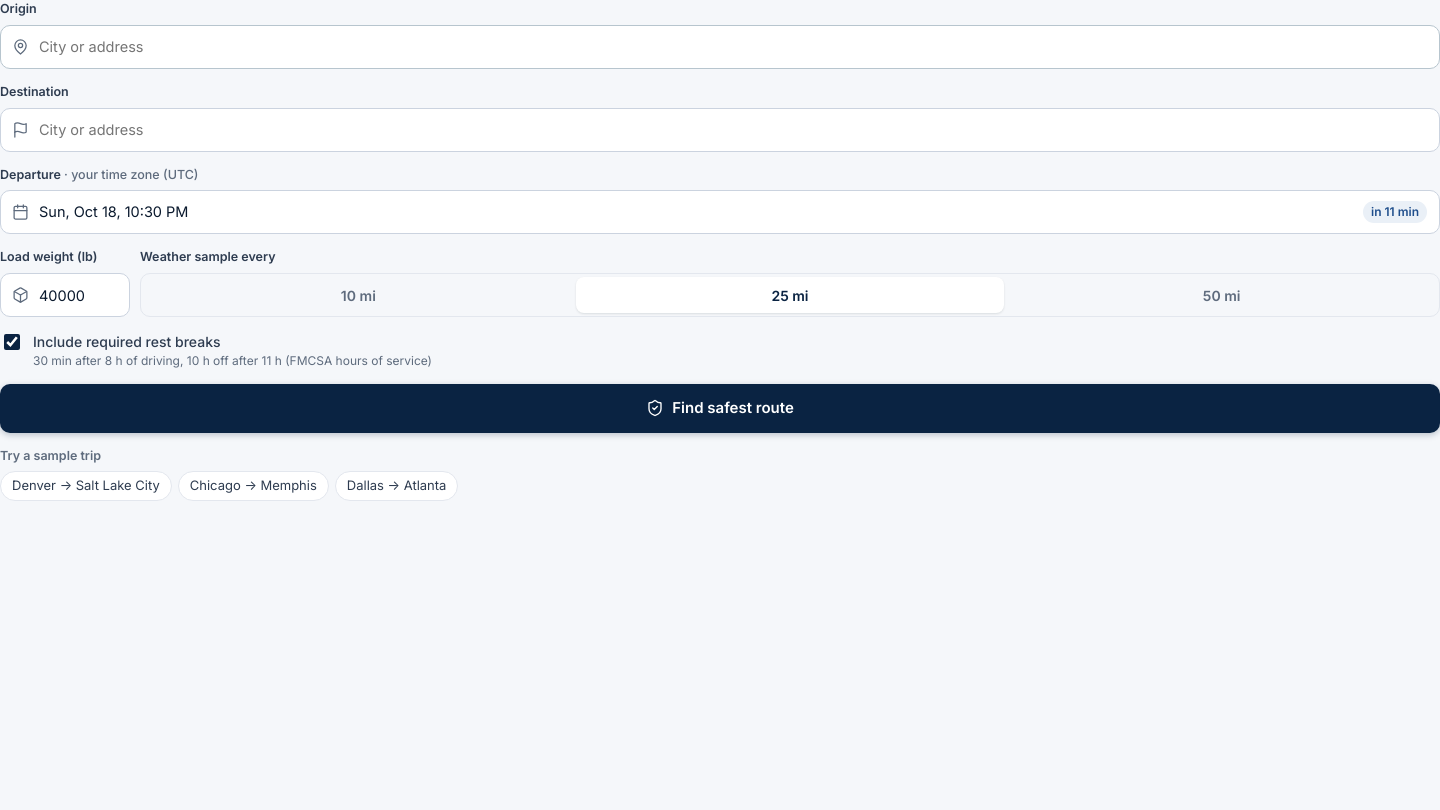
Test: TripForm › pages through future months but only offers days the forecast covers
Click the button named "Departure" at (114, 212), box [0,190,1439,234]
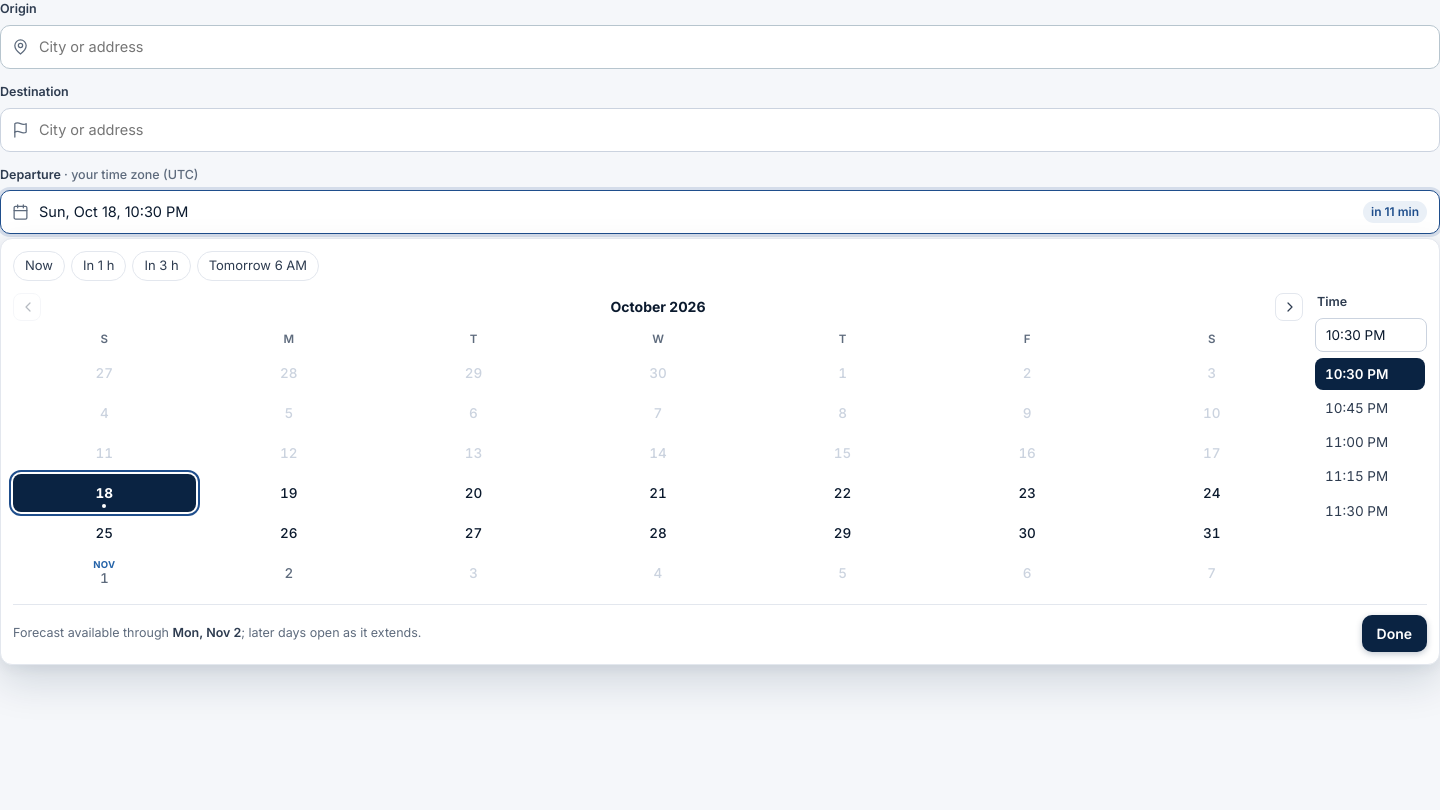
Check: the button named "Previous month" is disabled, box [13,293,41,321]
Click the button named "Next month" at (1289, 307), box [1275,293,1303,321]
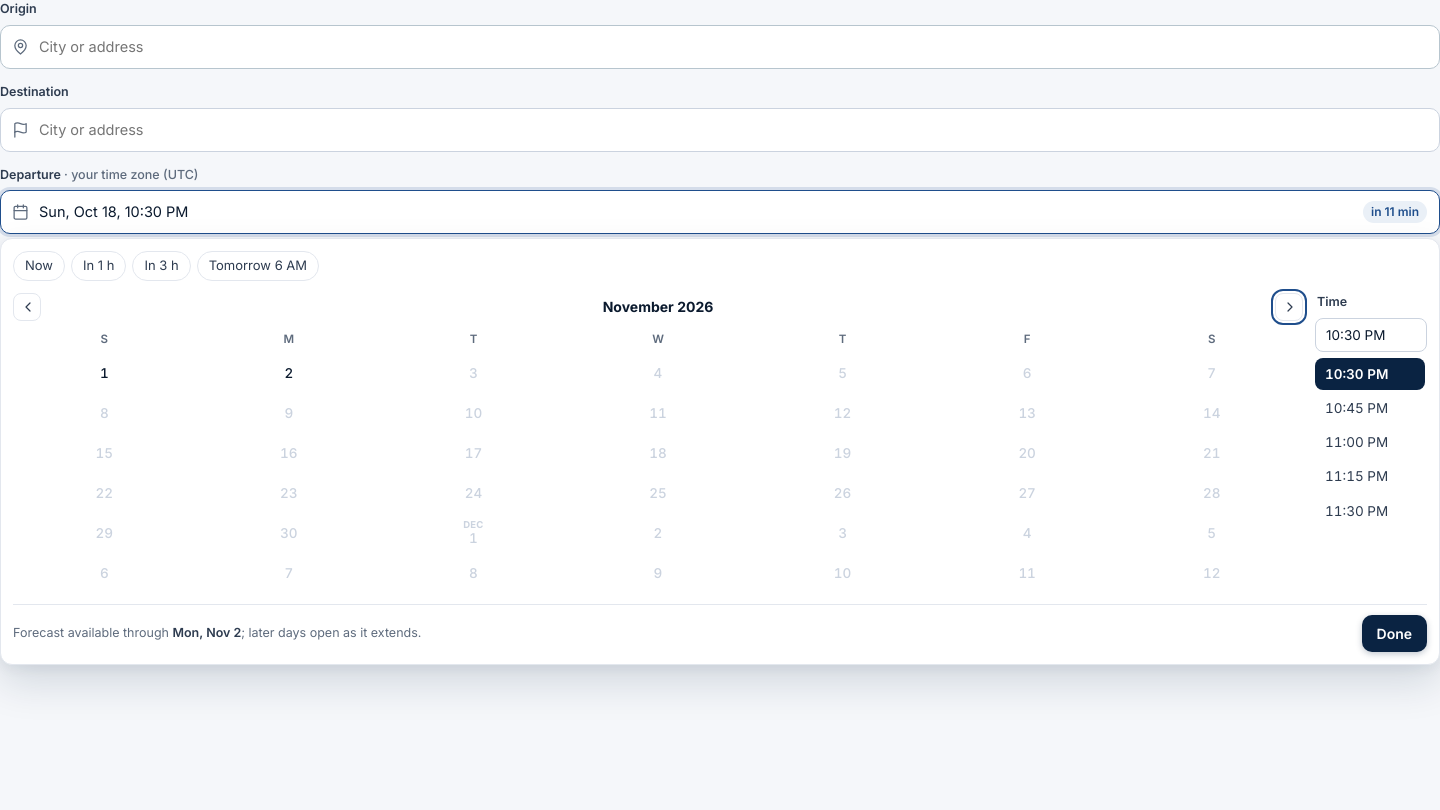
Click the button named "Next month" at (1289, 307), box [1275,293,1303,321]
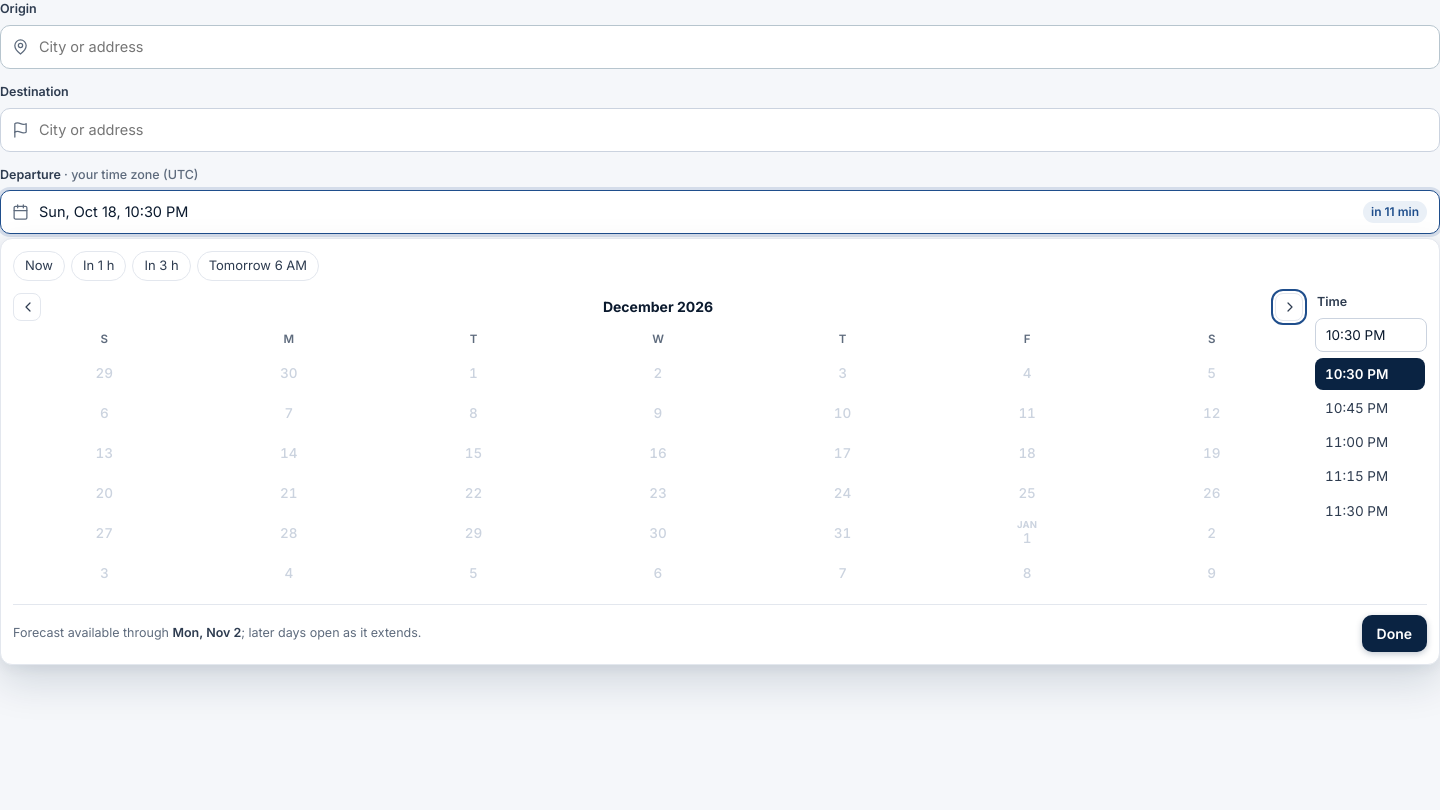
Click the button named "Next month" at (1289, 307), box [1275,293,1303,321]
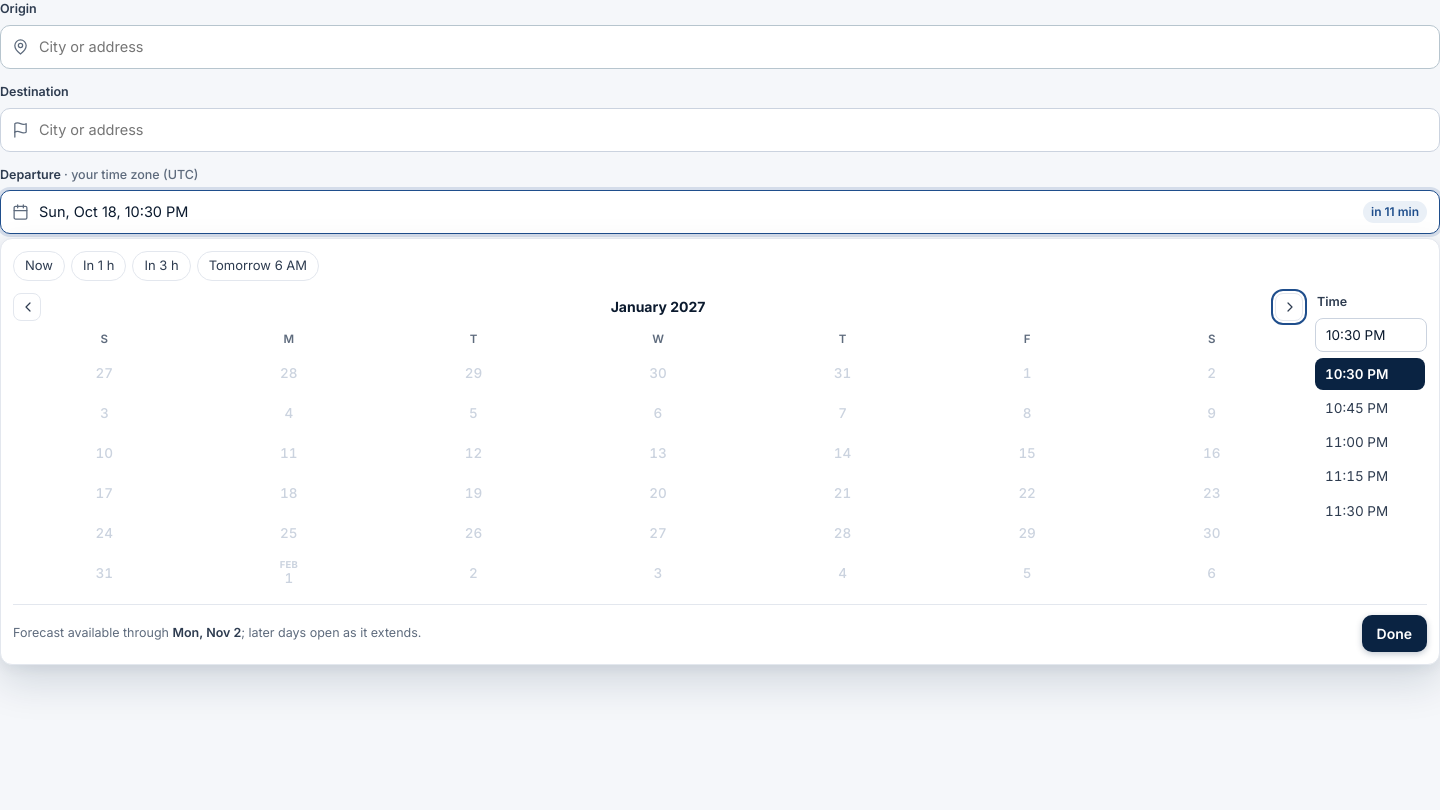
Press Escape
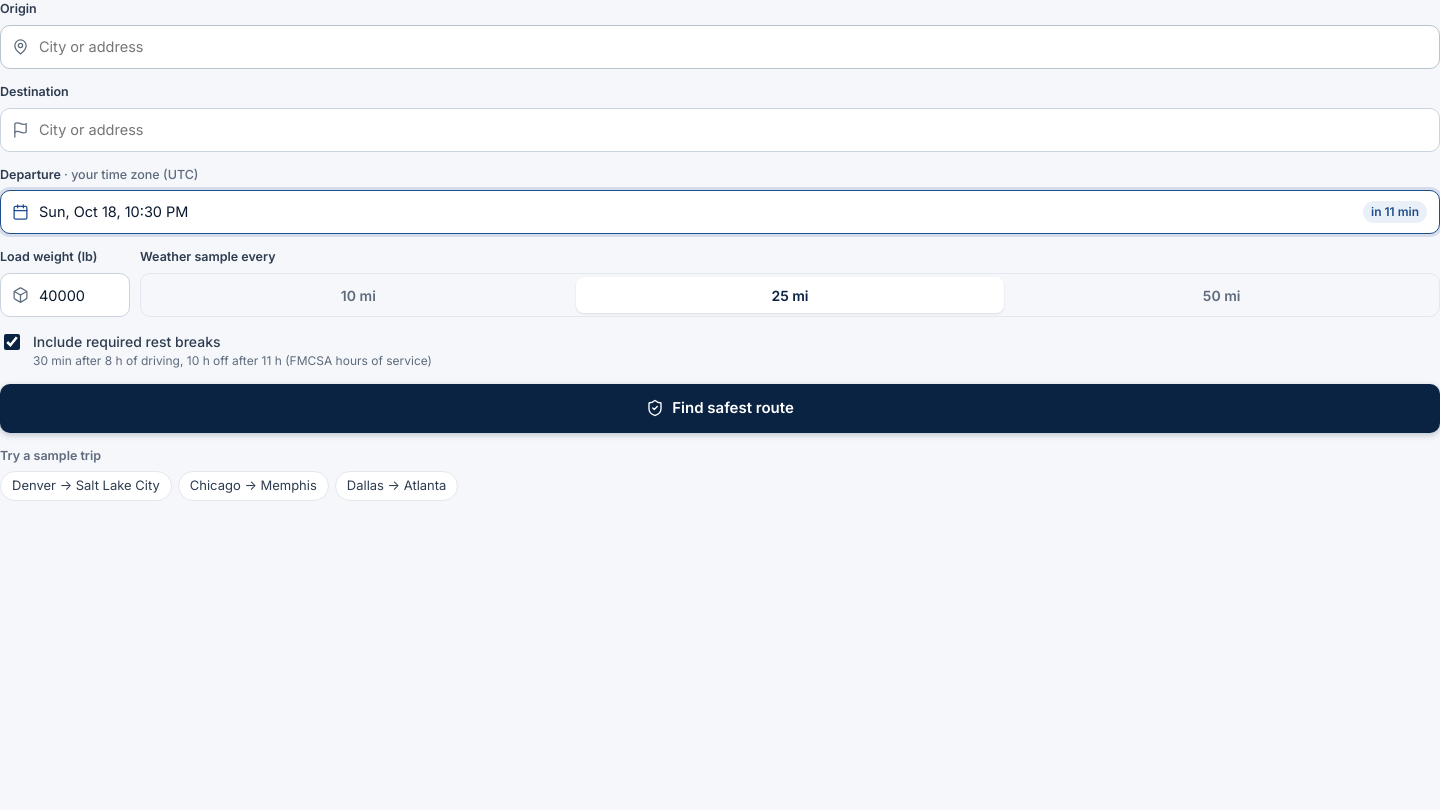
Check: the dialog is gone
